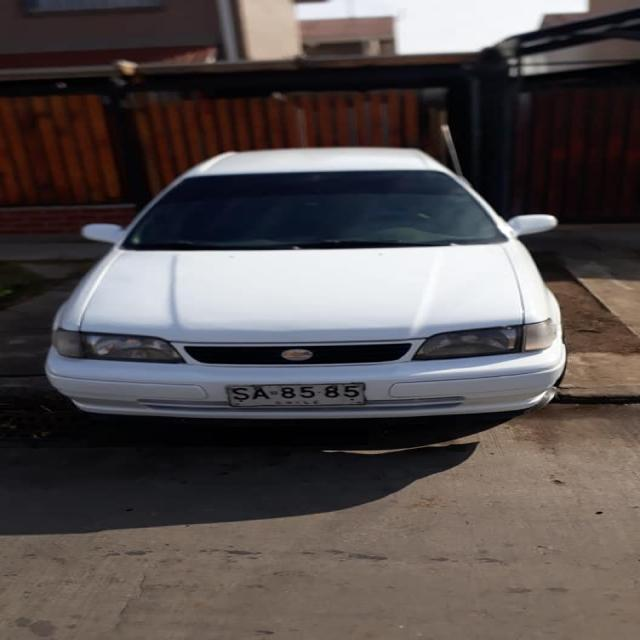patente: (223, 382, 366, 407)
